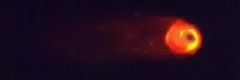keyhole: (185, 32, 197, 42)
